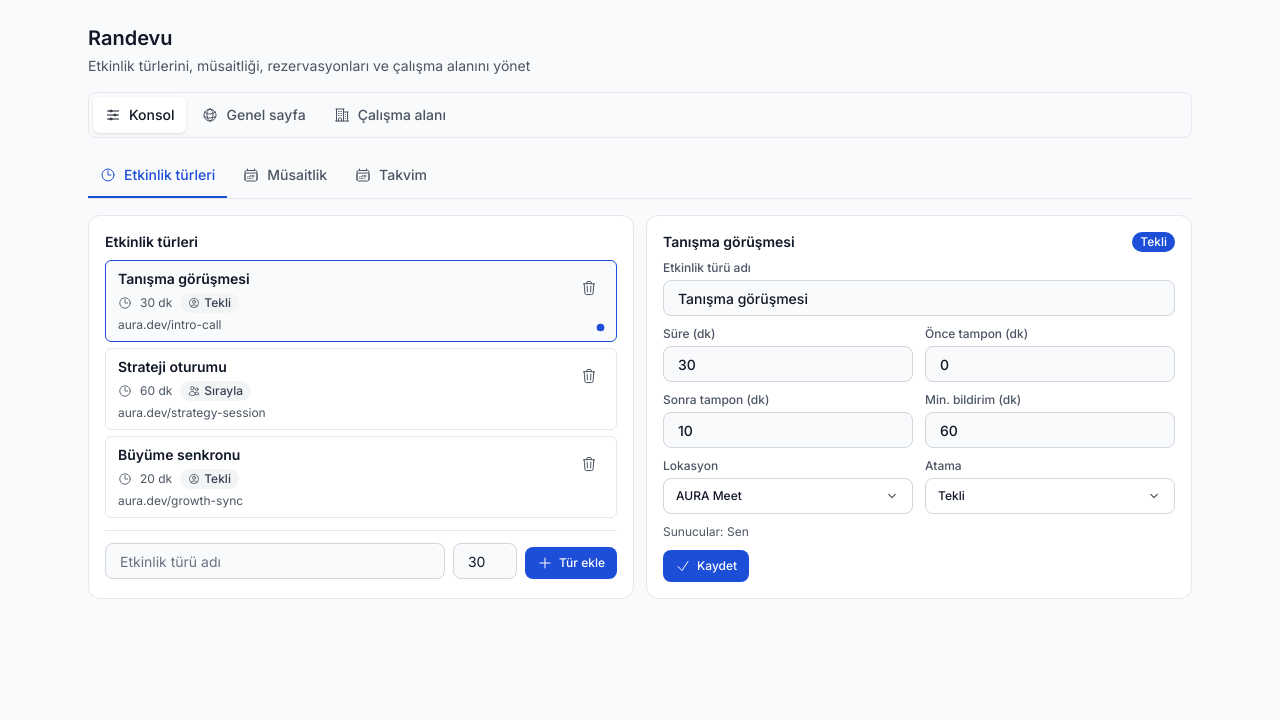
Scenario: AppointmentsPage › public surface shows booking preview
This screenshot has width=1280, height=720.
Click the tab "Genel sayfa": (254, 115) [190,97,318,133]
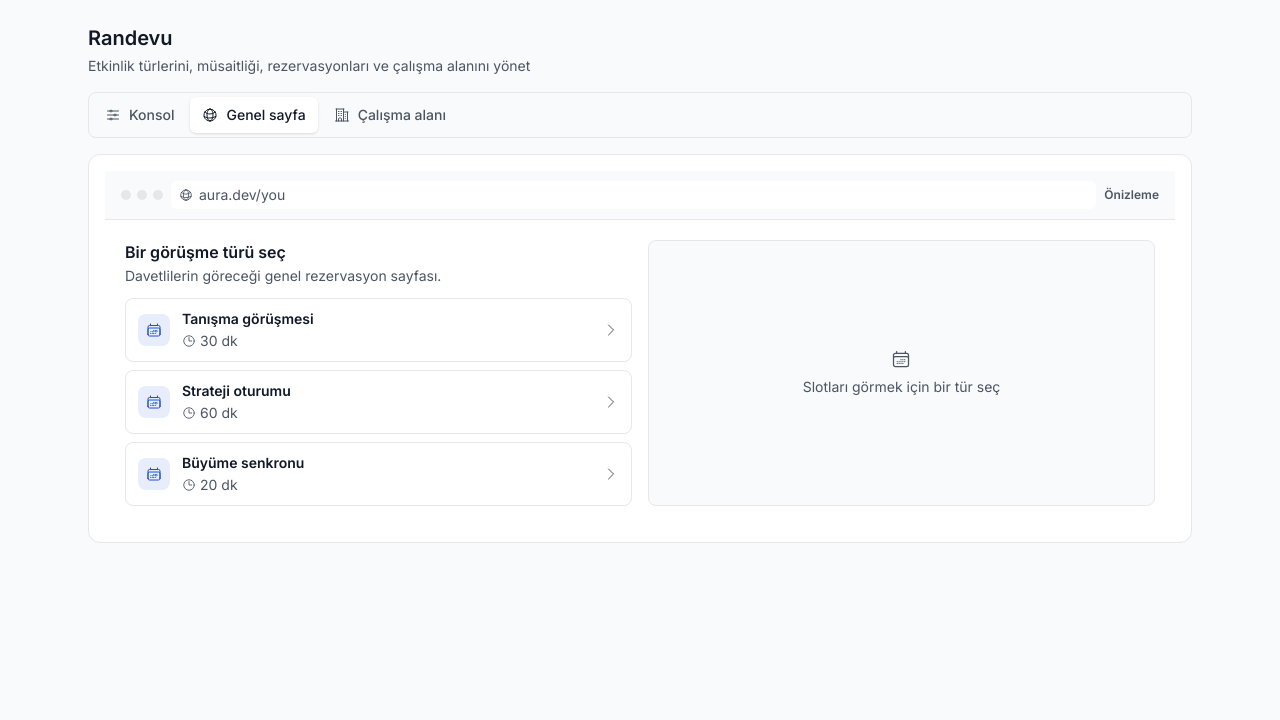
Check: the text "Önizleme" is shown, box [1104,187,1159,203]
